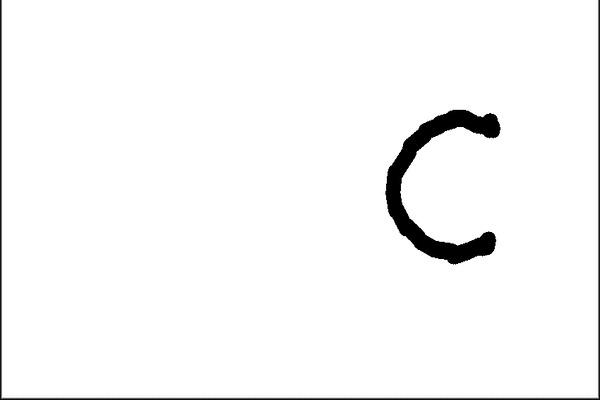C: (379, 100, 511, 266)
